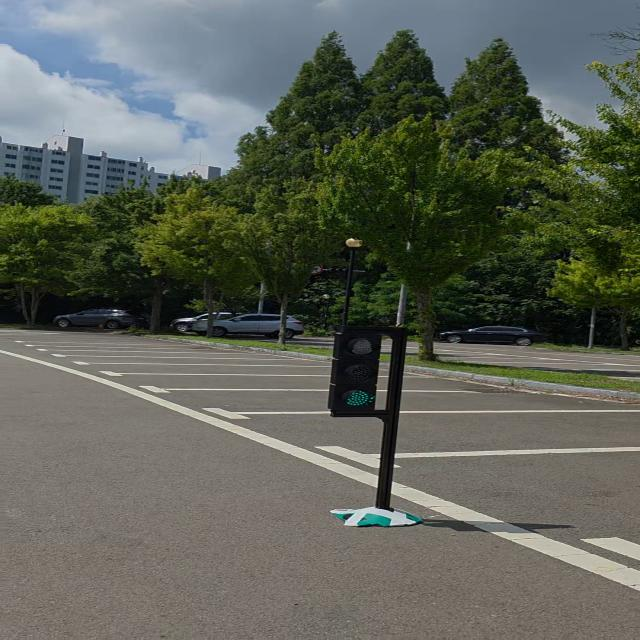green: (330, 330, 384, 416)
